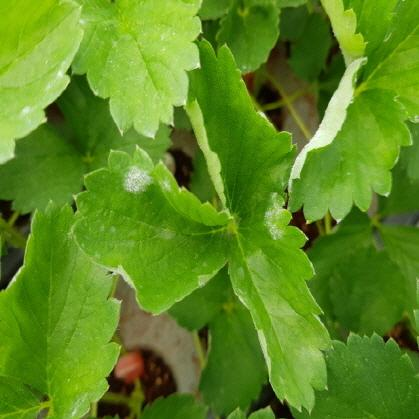Powdery Mildew Leaf: (69, 142, 232, 316), (0, 195, 122, 418), (227, 203, 336, 415), (182, 35, 299, 225), (285, 56, 413, 225), (0, 0, 86, 166)
